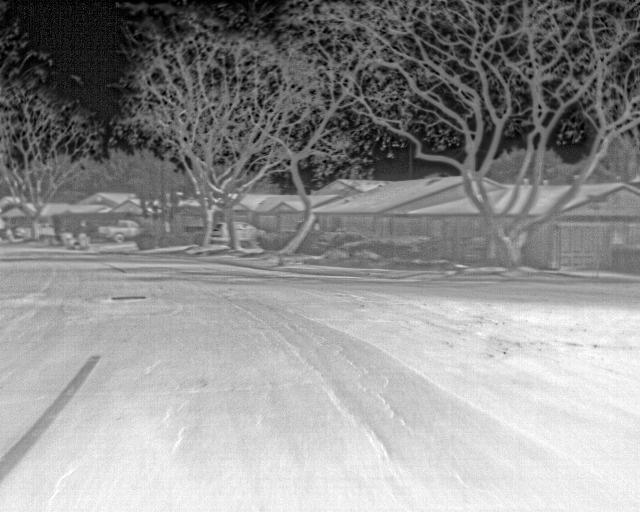car: (96, 218, 139, 242), (237, 221, 263, 247), (212, 223, 228, 246)
